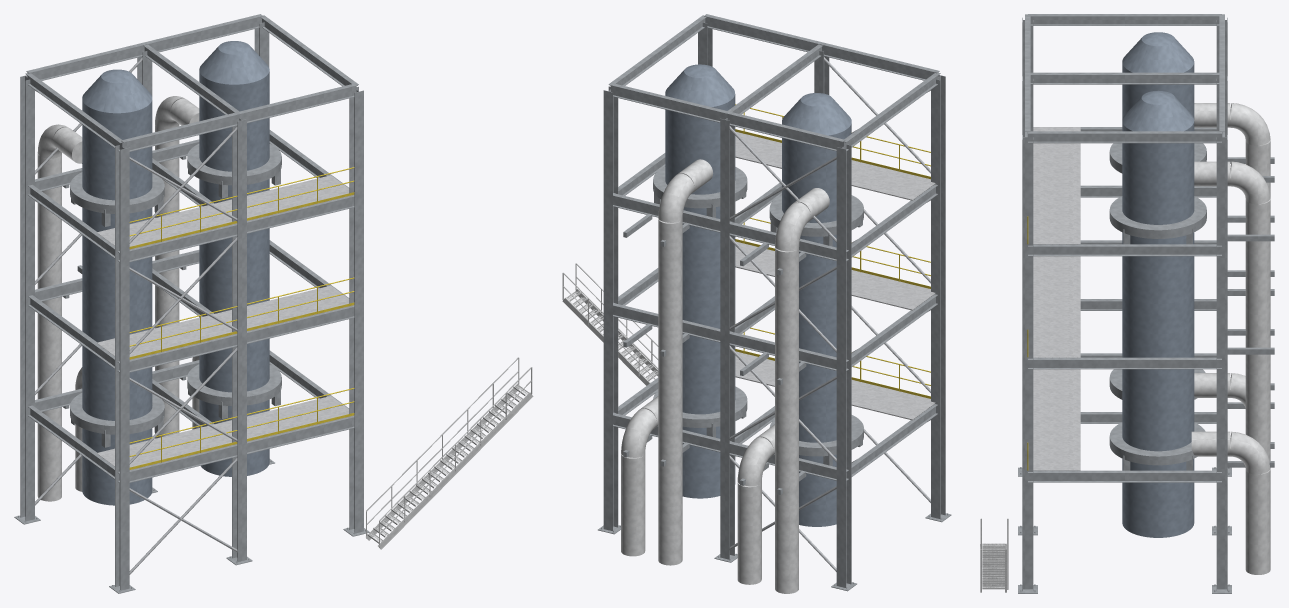
Rendered from otec-structures-and-heat-exchanger-supports.glb.
3 views of the same model, side by side, from view 1: azimuth 30°, elevation 25°; view 2: azimuth 150°, elevation 25°; view 3: azimuth 270°, elevation 25° (orthographic). The views are drawn at different scales.
Visible parts, largest first — view 1: HeatExchangers(context), FloorBeams, Columns&BasePlates, GratingFloors, SeawaterPipes(context), RingGirders&PipeGuides, AccessStair, Handrails, Bracing; view 2: HeatExchangers(context), Columns&BasePlates, SeawaterPipes(context), FloorBeams, GratingFloors, RingGirders&PipeGuides, Bracing, AccessStair, Handrails; view 3: HeatExchangers(context), FloorBeams, SeawaterPipes(context), GratingFloors, Columns&BasePlates, RingGirders&PipeGuides, AccessStair.
Boxes of the visible parts, x1,y1,x2,y2 form: HeatExchangers(context): (82,41,269,505); FloorBeams: (25,14,358,482); Columns&BasePlates: (14,22,369,593); GratingFloors: (96,175,354,470); SeawaterPipes(context): (37,96,199,501); RingGirders&PipeGuides: (63,144,281,447); AccessStair: (366,357,533,549); Handrails: (129,167,354,469); Bracing: (35,57,237,574); HeatExchangers(context): (665,64,851,526); Columns&BasePlates: (598,22,951,591); SeawaterPipes(context): (621,159,829,593); FloorBeams: (608,14,940,480); GratingFloors: (735,132,935,420); RingGirders&PipeGuides: (623,167,863,494); Bracing: (729,57,930,571); AccessStair: (562,263,658,385); Handrails: (735,104,930,398); HeatExchangers(context): (1122,32,1194,537); FloorBeams: (1025,14,1224,482); SeawaterPipes(context): (1191,103,1270,574); GratingFloors: (1033,127,1080,470); Columns&BasePlates: (1018,17,1231,593); RingGirders&PipeGuides: (1109,143,1274,470); AccessStair: (980,518,1008,592).
Bounding box in the file's own units: 16.92 × 18.68 × 10.62.
Materials: 7 (7 with a texture image).
